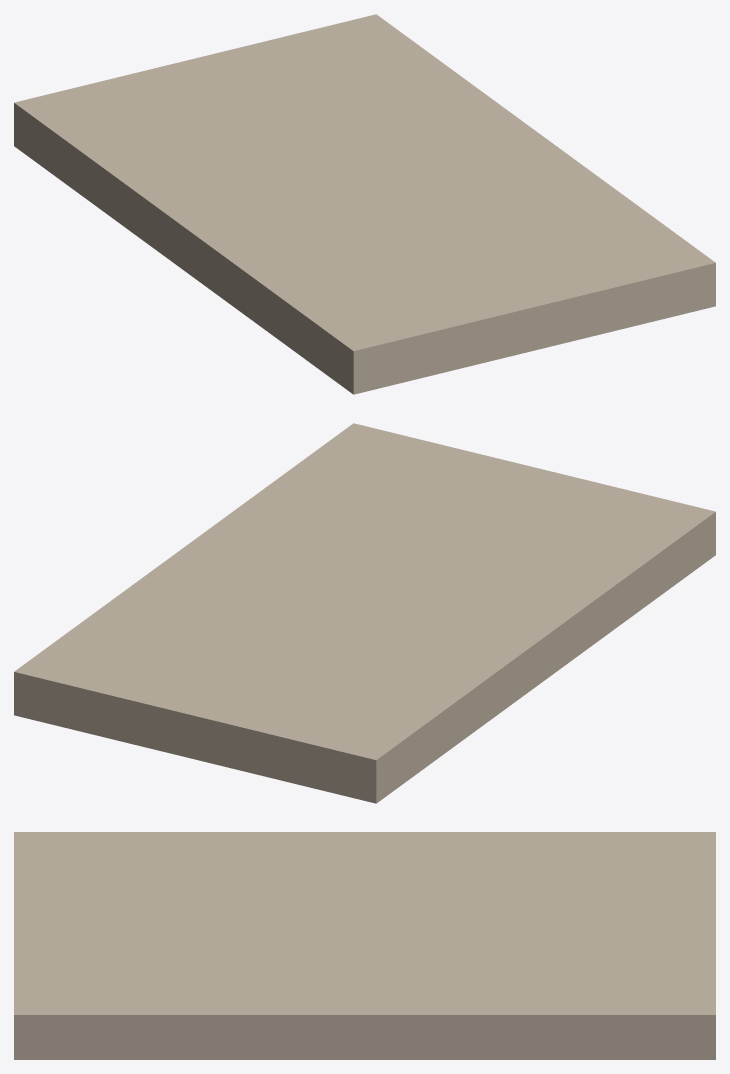
Rendered from Segment_Roof.fbx.
The picture shows the model from 3 angles, top to bottom: view 1: azimuth 30°, elevation 25°; view 2: azimuth 150°, elevation 25°; view 3: azimuth 270°, elevation 25°; orthographic projection. The views are drawn at different scales.
Parts seen in each view (by area): view 1: Cube.010; view 2: Cube.010; view 3: Cube.010.
Boxes of the visible parts, box(x1,y1,x2,y2) form: Cube.010: box(14, 14, 715, 394); Cube.010: box(14, 423, 715, 803); Cube.010: box(14, 832, 715, 1059).
Size of the model in its own units: 200 by 22.95 by 325.
